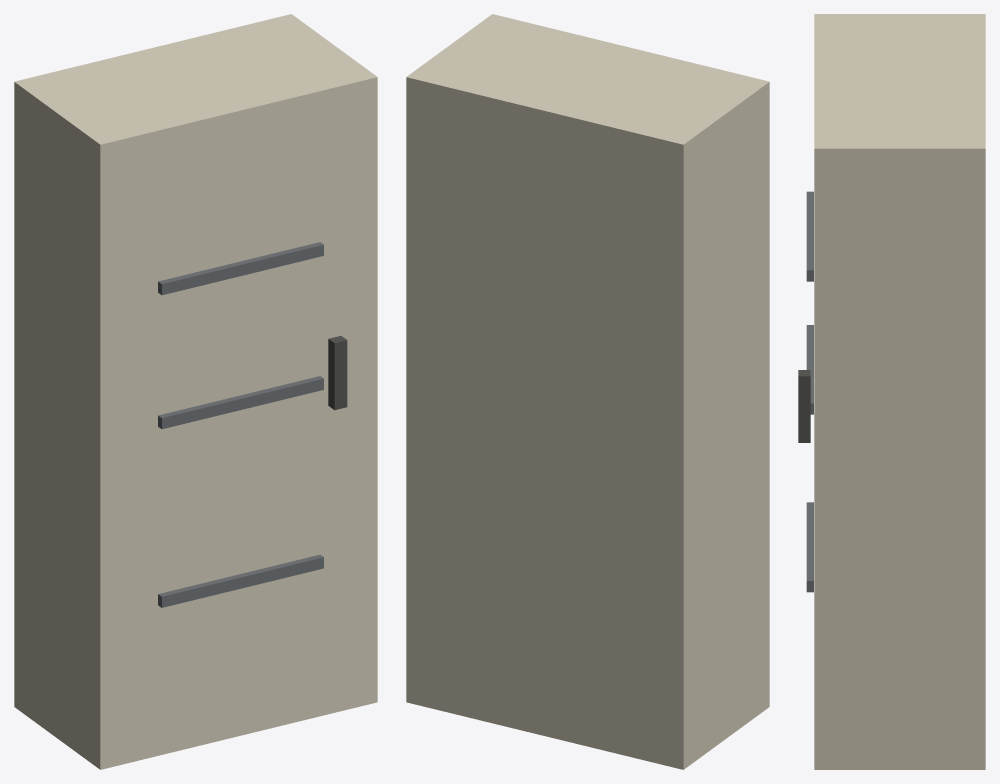
File: electrical_cabinet_01.glb
3 renders of one model, left to right at view 1: azimuth 30°, elevation 25°; view 2: azimuth 150°, elevation 25°; view 3: azimuth 270°, elevation 25°, orthographic.
Parts seen in each view (by area): view 1: cab, vent0.35, vent0.75, vent1.05, handle; view 2: cab; view 3: cab, handle, vent0.35, vent1.05, vent0.75.
Boxes of the visible parts, x1,y1,x2,y2 form: cab: [14, 14, 377, 769]; vent0.35: [158, 554, 323, 607]; vent0.75: [158, 376, 323, 429]; vent1.05: [158, 242, 323, 295]; handle: [328, 336, 347, 410]; cab: [406, 14, 769, 769]; cab: [814, 14, 985, 769]; handle: [798, 370, 810, 442]; vent0.35: [806, 502, 813, 592]; vent1.05: [806, 191, 813, 281]; vent0.75: [806, 325, 813, 414].
Bounding box in the file's own units: 0.65 × 1.4 × 0.3825.
